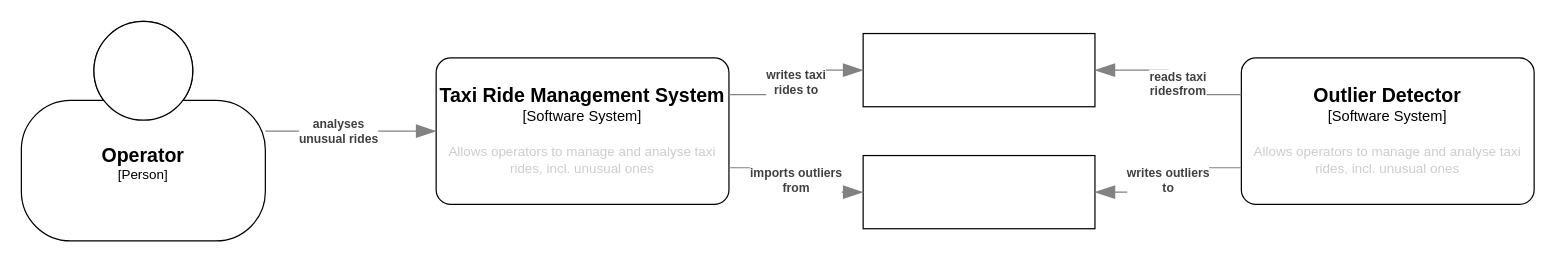
The diagram is 1556 pixels wide and 262 high, and some of its shapes have lost their labels. The centre of each missing label's shape, as x and y in pixels:
<< Parquet >> yyyy-mm-dd.taxi-rides.outliers.parquet: the point at 978,191
<< Parquet >> yyyy-mm-dd.taxi-rides.parquet: the point at 978,69
